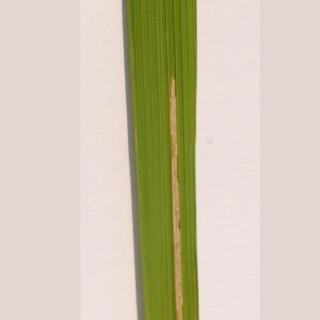Hawar-Daun: (159, 75, 198, 315)
